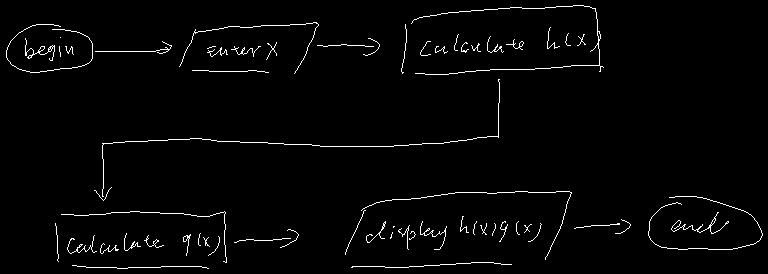arrow: (94, 79, 499, 200), (234, 229, 298, 247), (317, 38, 379, 55), (95, 41, 171, 53), (574, 219, 630, 233)
data: (345, 191, 571, 267), (179, 22, 318, 73)
process: (401, 5, 603, 74), (55, 211, 226, 268)
terminator: (648, 196, 762, 249), (6, 24, 92, 72)
text: (366, 216, 541, 249), (420, 27, 600, 55), (67, 233, 219, 255), (671, 212, 728, 233), (207, 42, 276, 59), (25, 37, 73, 60)
